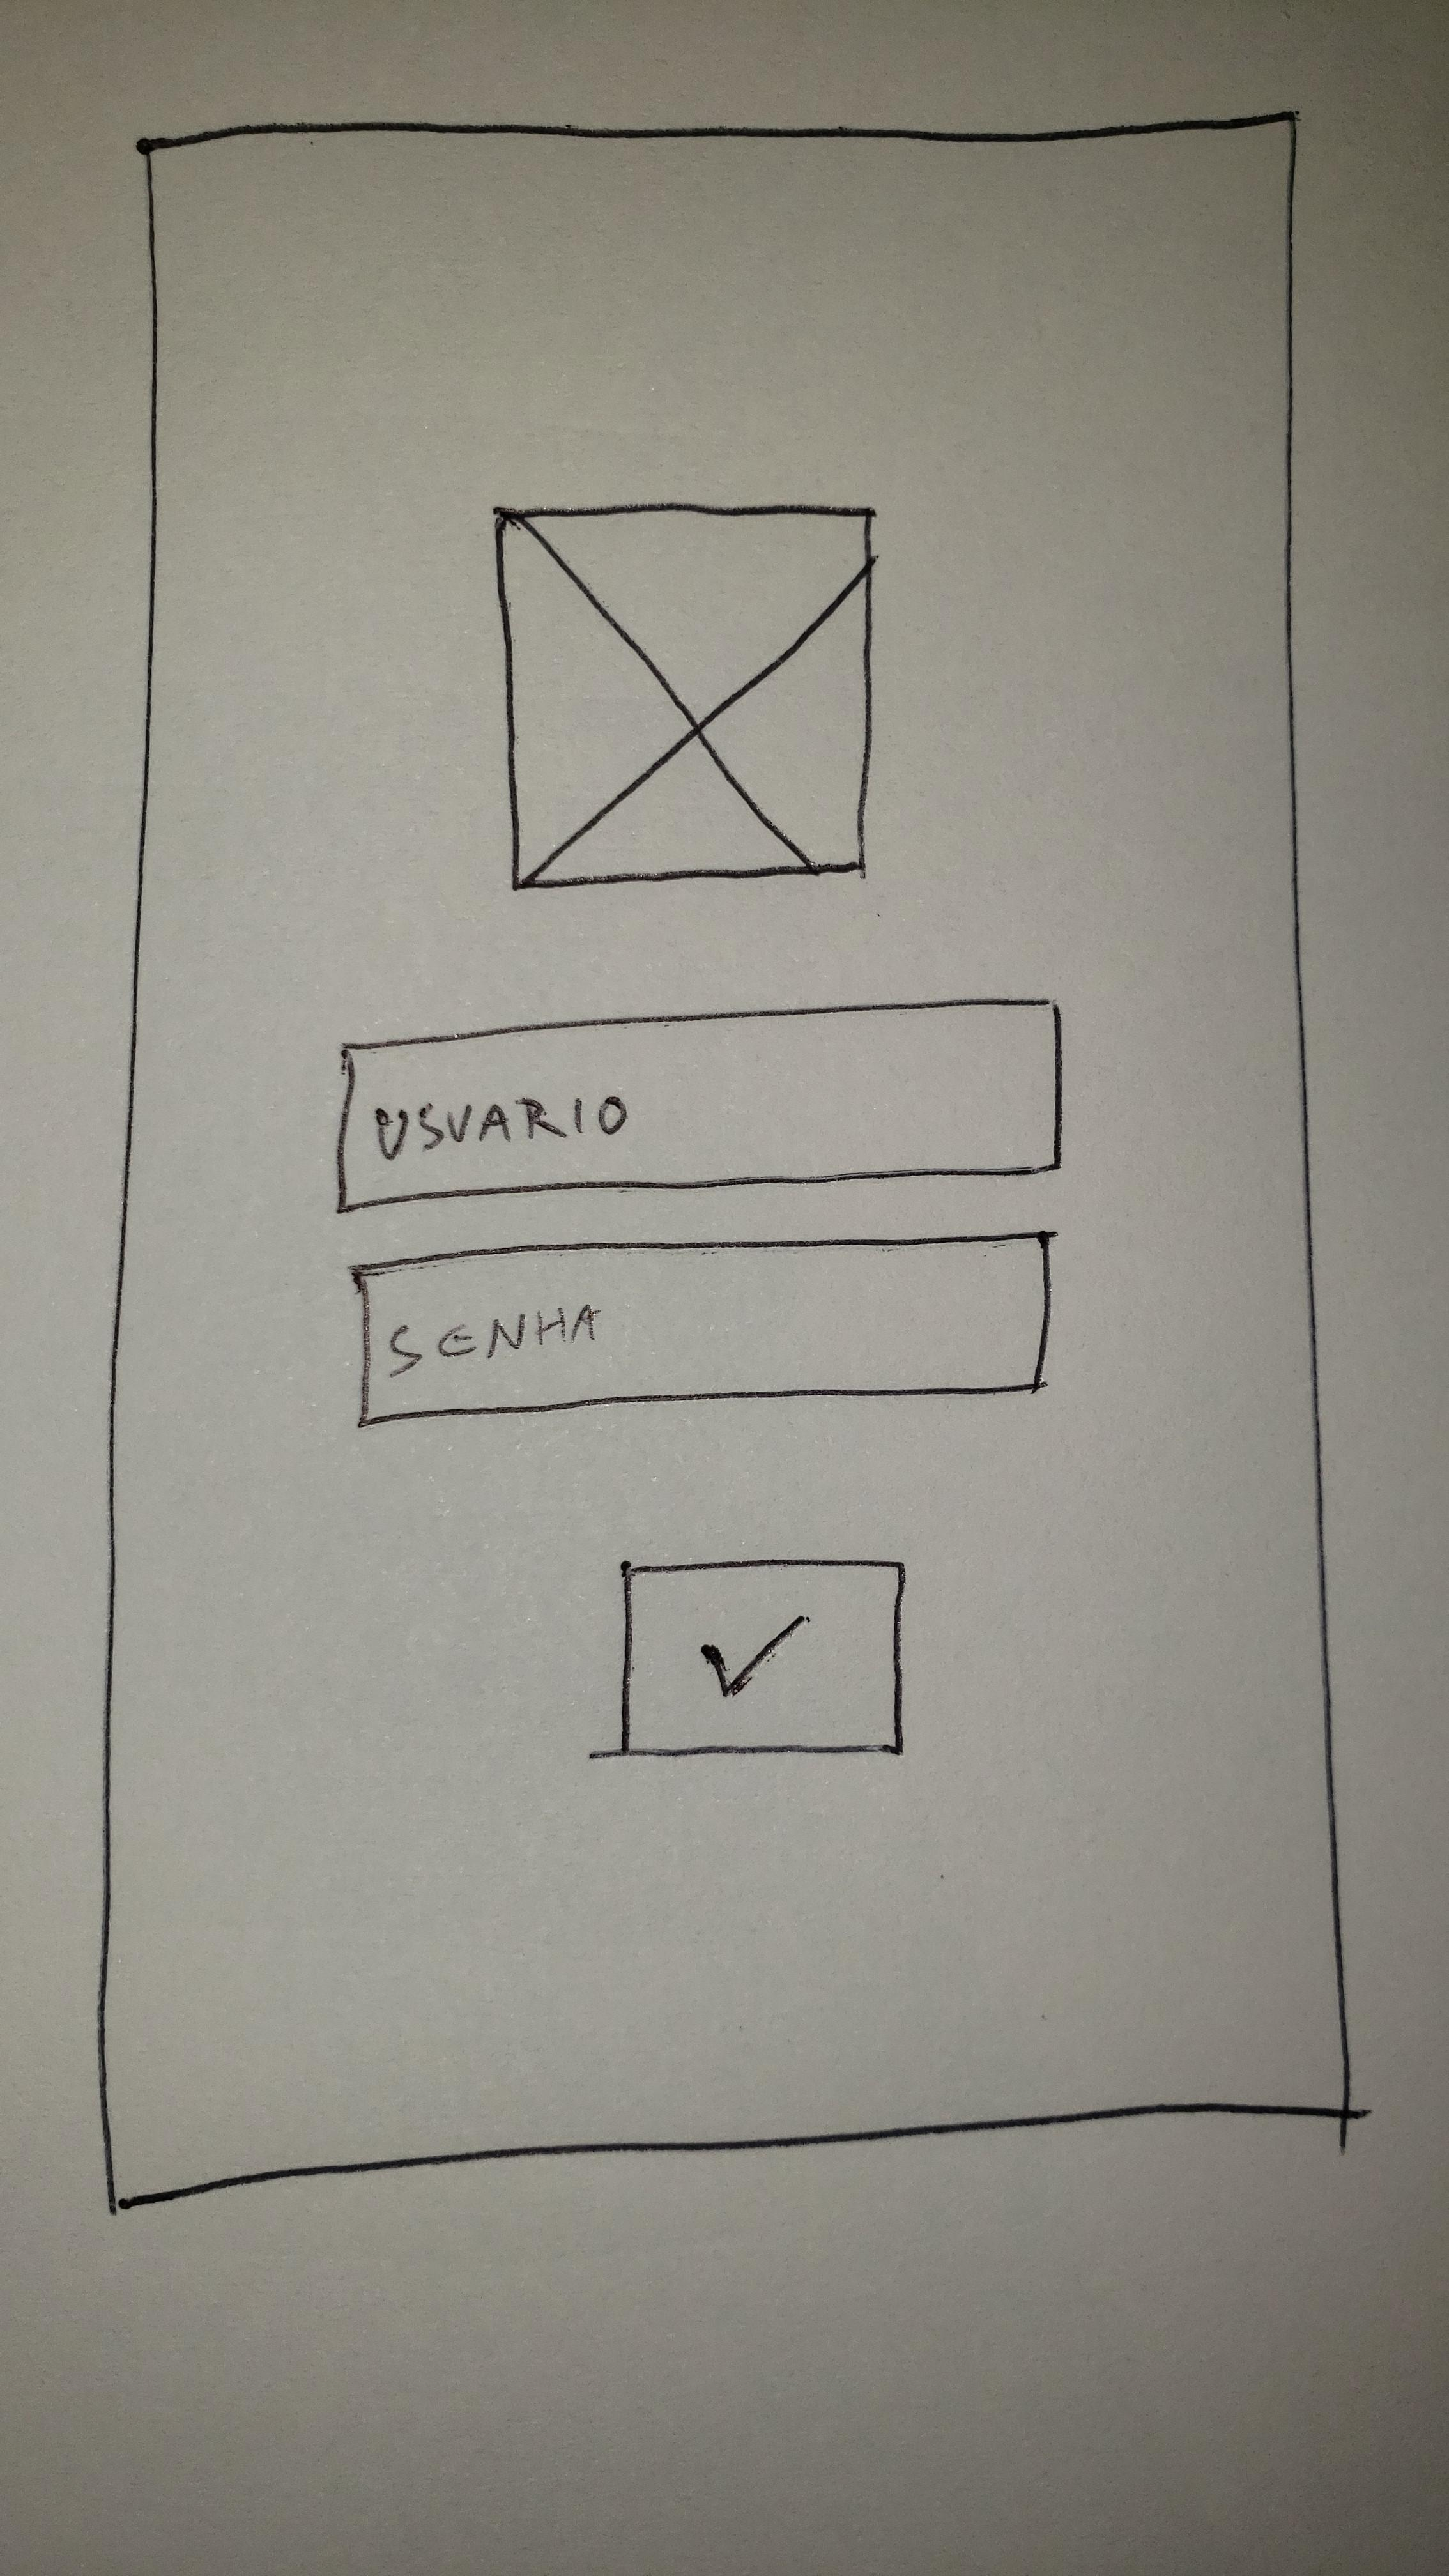Button: (621, 1557, 906, 1757)
Image: (495, 502, 874, 890)
Screen: (99, 111, 1350, 2215)
TextBox: (336, 1000, 1065, 1212), (354, 1233, 1049, 1428)
